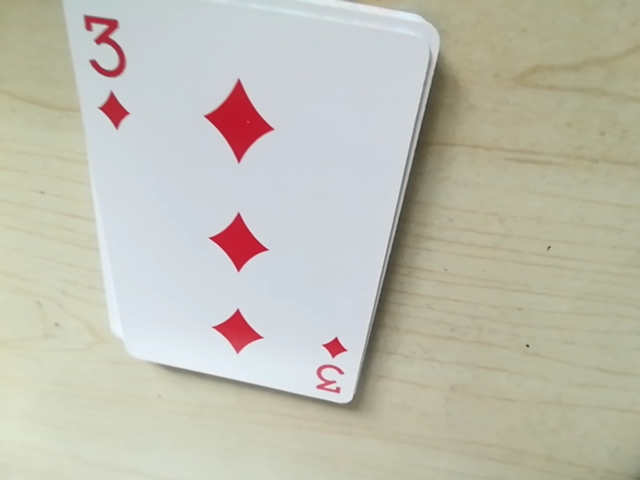fk 3: (77, 12, 136, 135), (307, 337, 352, 403)
